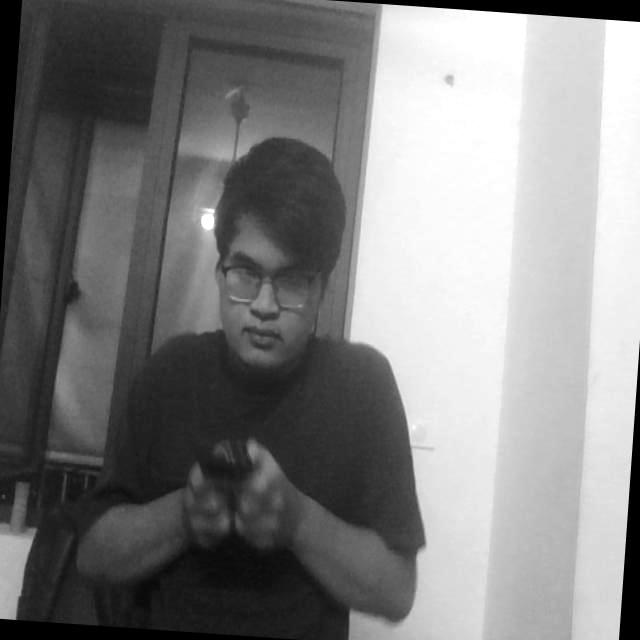phone: (190, 424, 279, 498)
